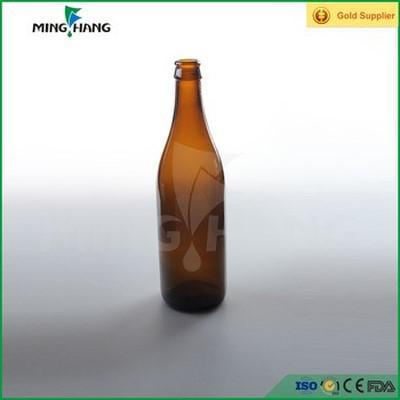beer: (156, 59, 227, 314)
